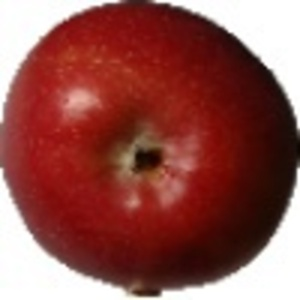maçã braeburn: (1, 1, 299, 293)
